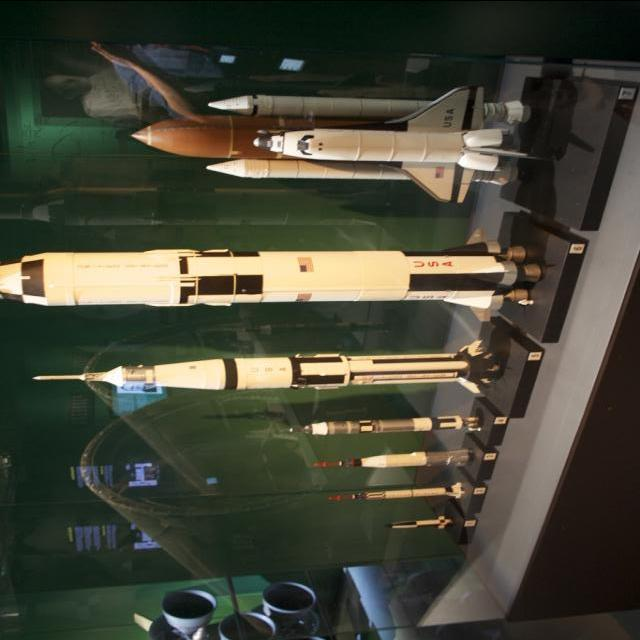missile: (0, 227, 541, 326), (97, 327, 509, 397), (202, 90, 547, 124), (199, 154, 411, 186), (310, 446, 473, 472), (274, 413, 483, 431), (321, 479, 466, 503), (387, 514, 456, 529)
